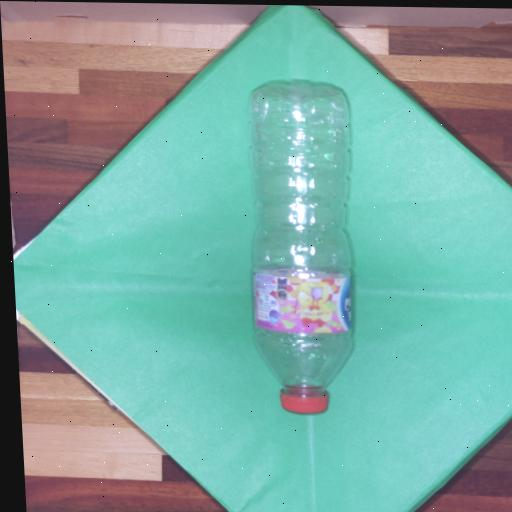bottle: (224, 61, 387, 438)
